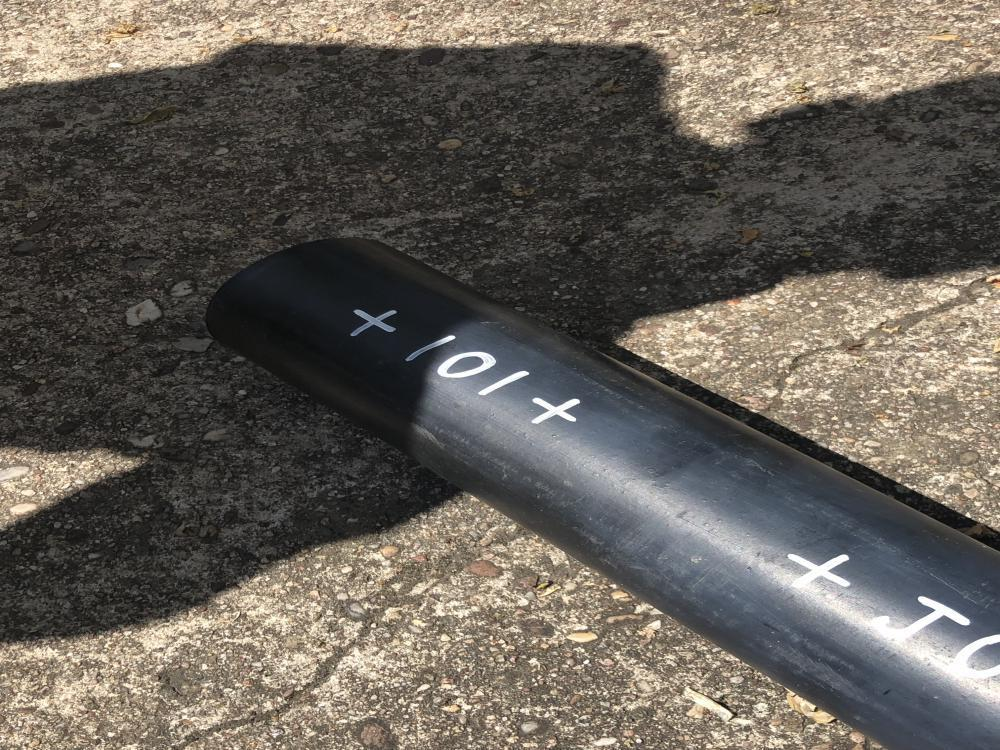+: (786, 554, 850, 588), (534, 397, 580, 426), (350, 308, 396, 336)
0: (436, 350, 496, 379)
1: (475, 370, 530, 398), (407, 334, 456, 362)
J: (867, 595, 972, 644)
